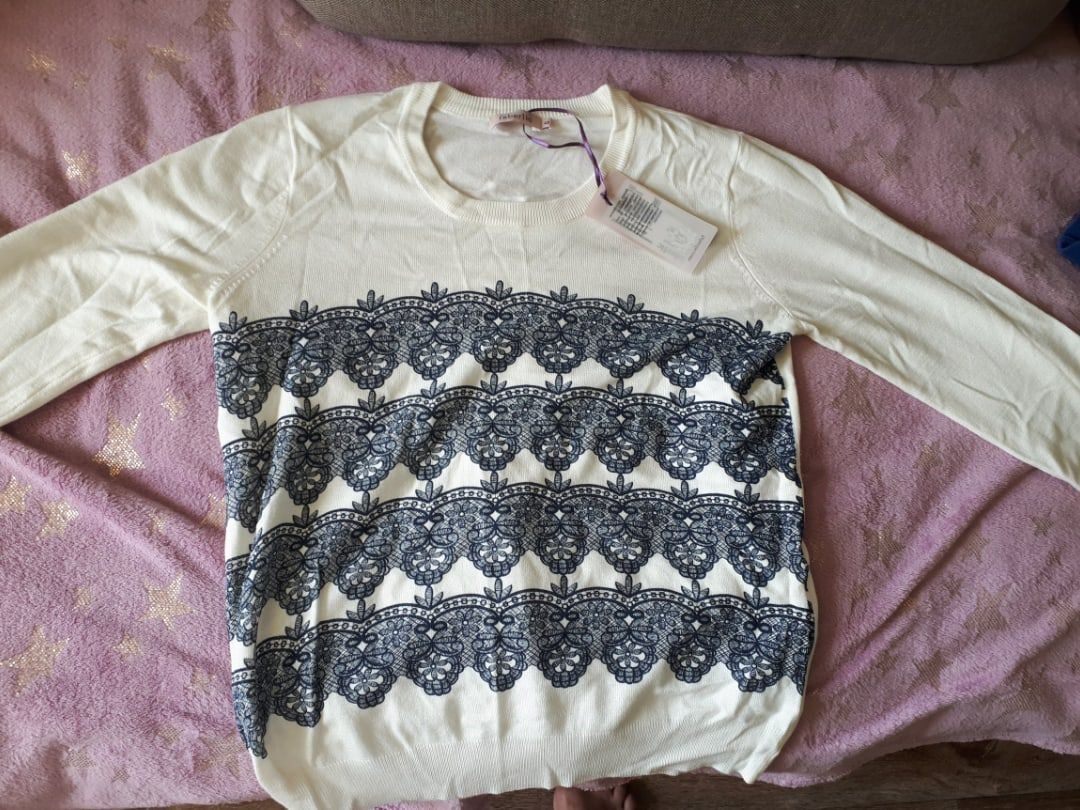clothes: (1, 76, 1080, 786)
